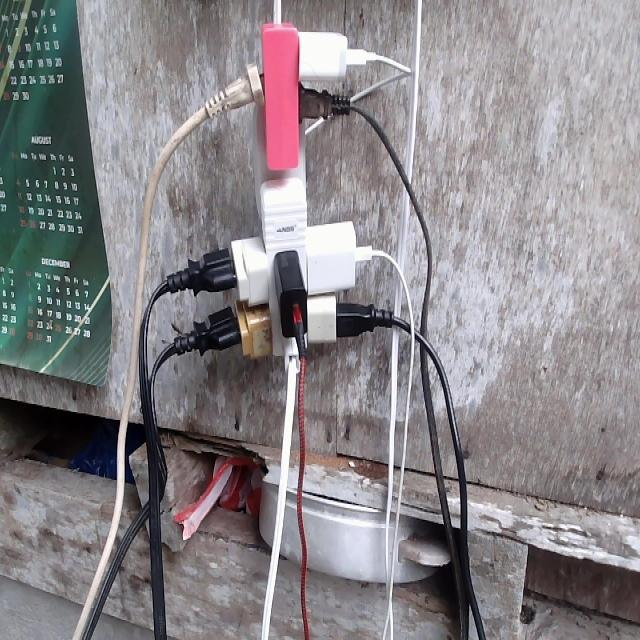-: (168, 20, 392, 373)
